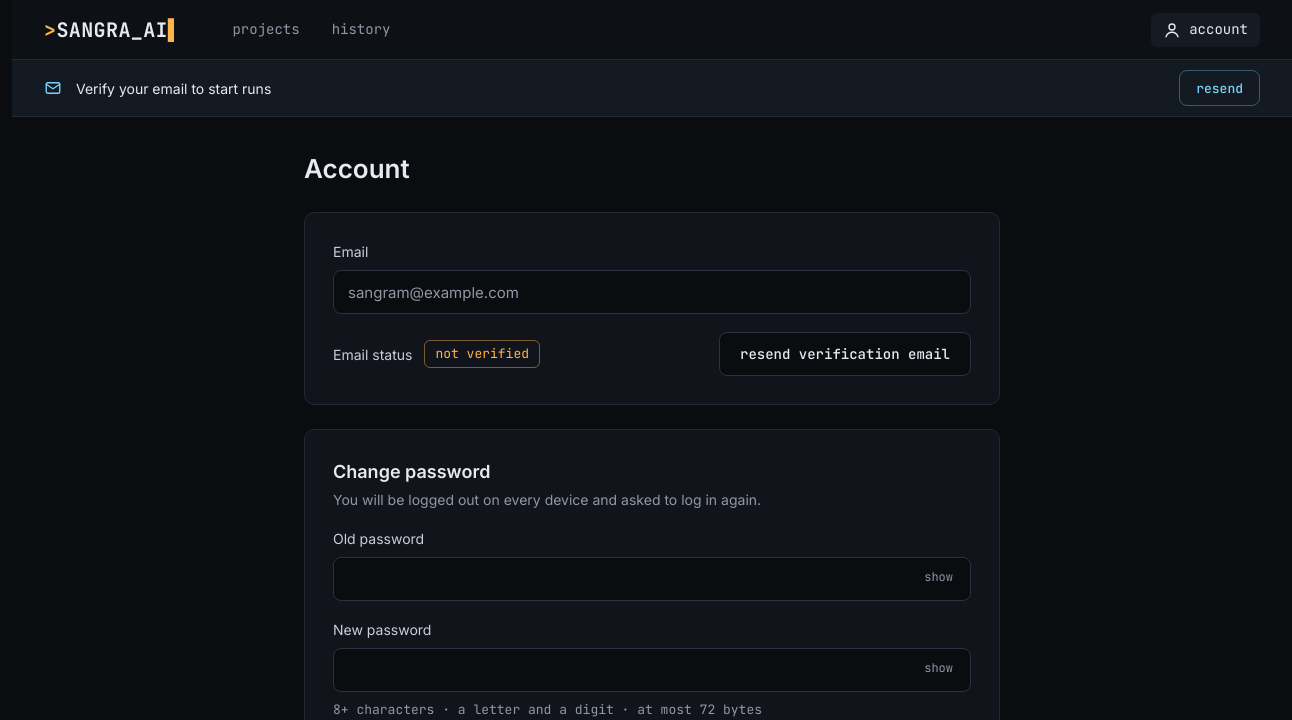
Test: the session ends › FE2-X05: a 401 in the middle of use -> token cleared, login shows 'Session ended, please log in again'
Expected: the heading "Account" is shown, [304,153,410,184]
Click the button "resend".
click(1220, 88)  # box [1179,70,1260,106]
(page scrolled)
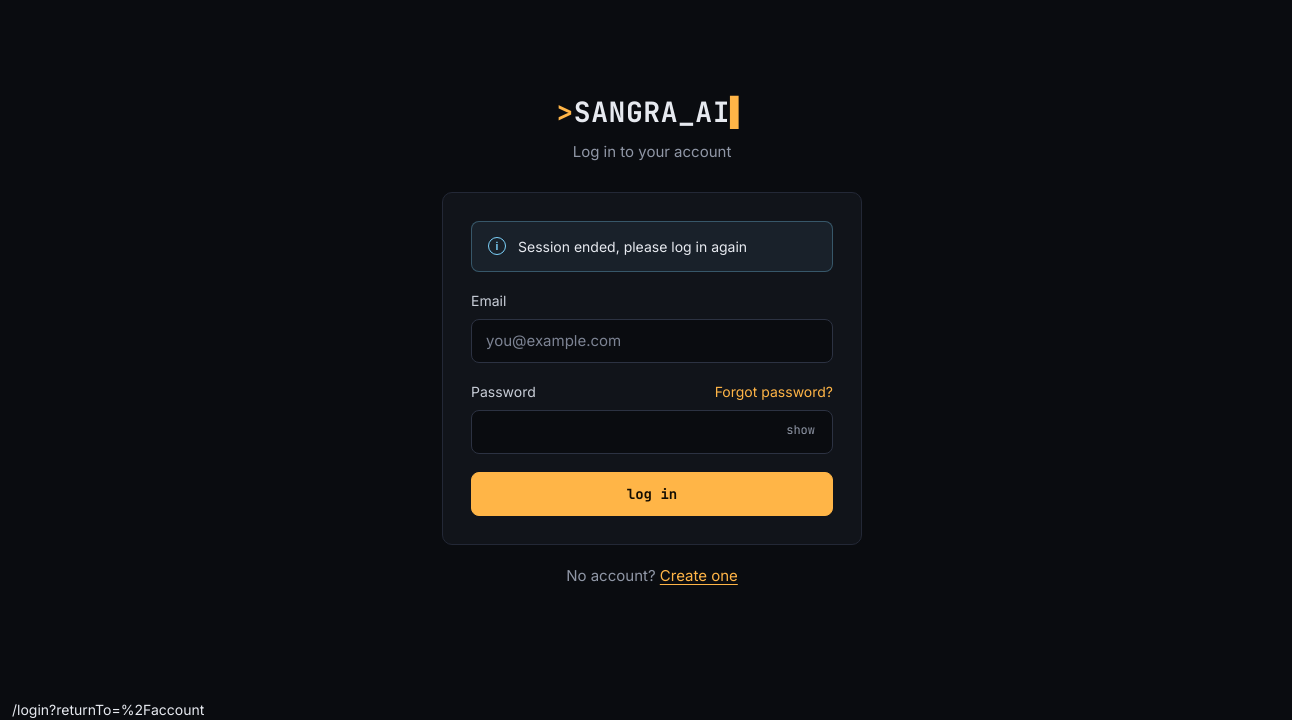
Result: the text "Session ended, please log in again" is shown at [518,238,747,254]
Result: the text with test id "location" reads "/login?returnTo=%2Faccount" at [12,701,204,718]
